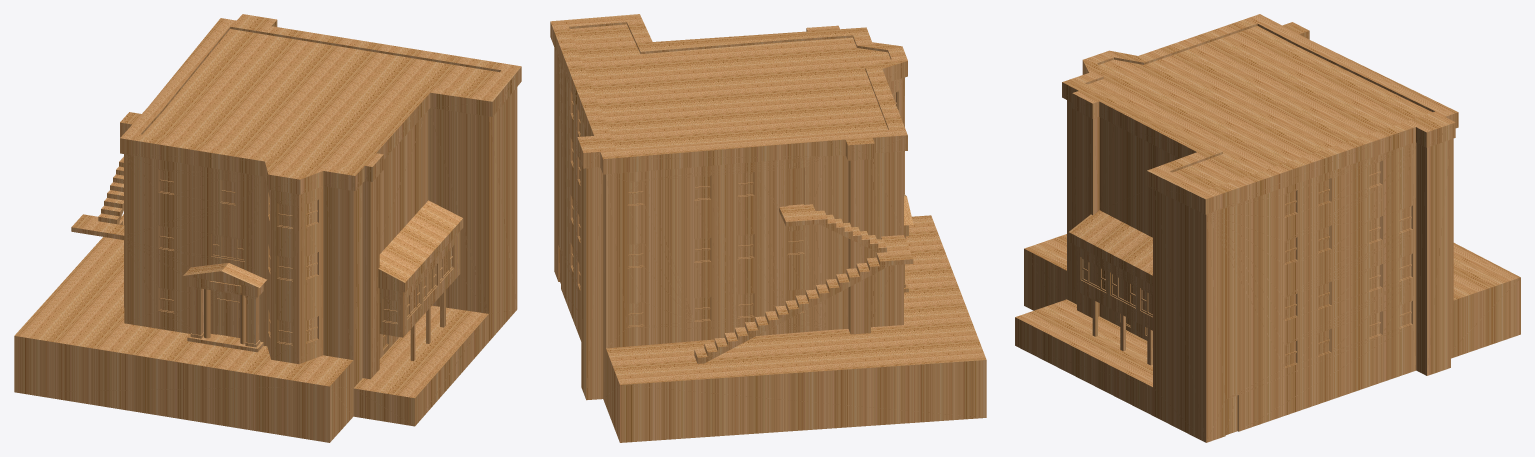
The model's file is WeithHouse.FBX.
3 views of the same model, side by side, from view 1: azimuth 30°, elevation 25°; view 2: azimuth 150°, elevation 25°; view 3: azimuth 270°, elevation 25° (orthographic). The views are drawn at different scales.
Parts seen in each view (by area): view 1: Group1; view 2: Group1; view 3: Group1.
Part boxes in pixels (bbox=[...]): Group1: bbox=[14, 14, 521, 442]; Group1: bbox=[550, 14, 986, 442]; Group1: bbox=[1015, 14, 1520, 442].
Bounding box in the file's own units: 1.27 × 0.6318 × 1.18.
3 materials, 3 textured.
